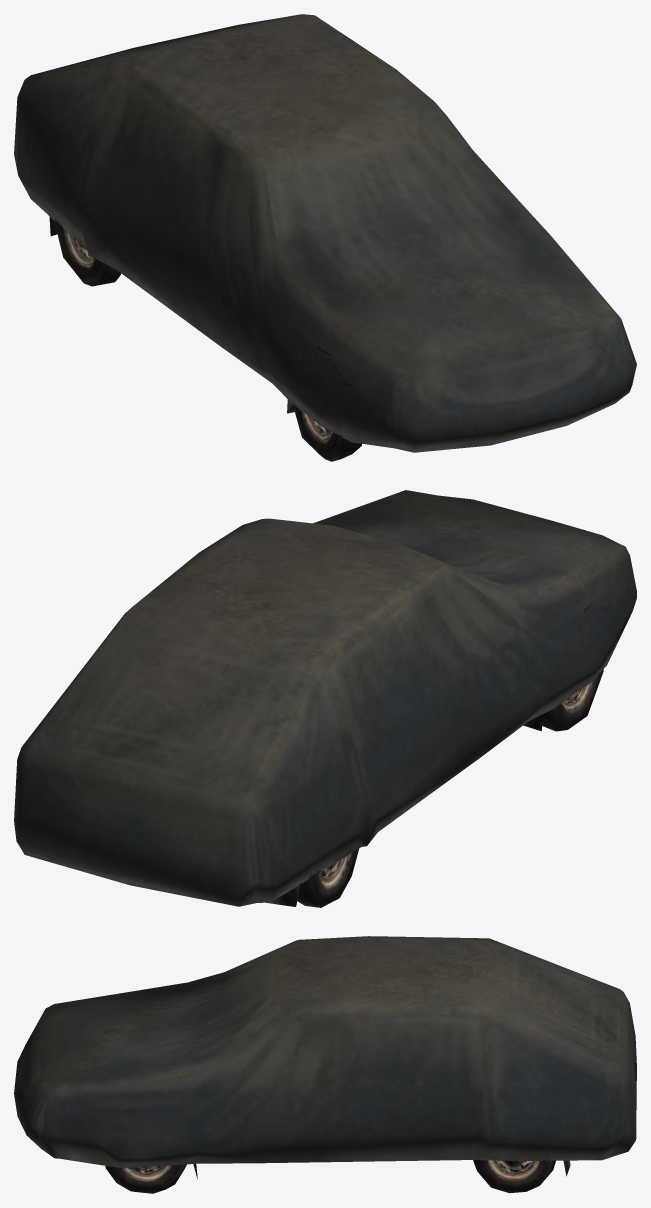
The model's file is car.glb.
The picture shows the model from 3 angles, top to bottom: view 1: azimuth 30°, elevation 25°; view 2: azimuth 150°, elevation 25°; view 3: azimuth 270°, elevation 25°; orthographic projection. The views are drawn at different scales.
Visible parts, largest first — view 1: lo; view 2: lo; view 3: lo.
Part boxes in pixels (x1,y1,x2,y2): lo: (14, 14, 636, 461); lo: (14, 490, 636, 907); lo: (14, 936, 636, 1193).
Bounding box in the file's own units: 1.8 × 1.41 × 4.37.
Materials: 1 (1 with a texture image).
